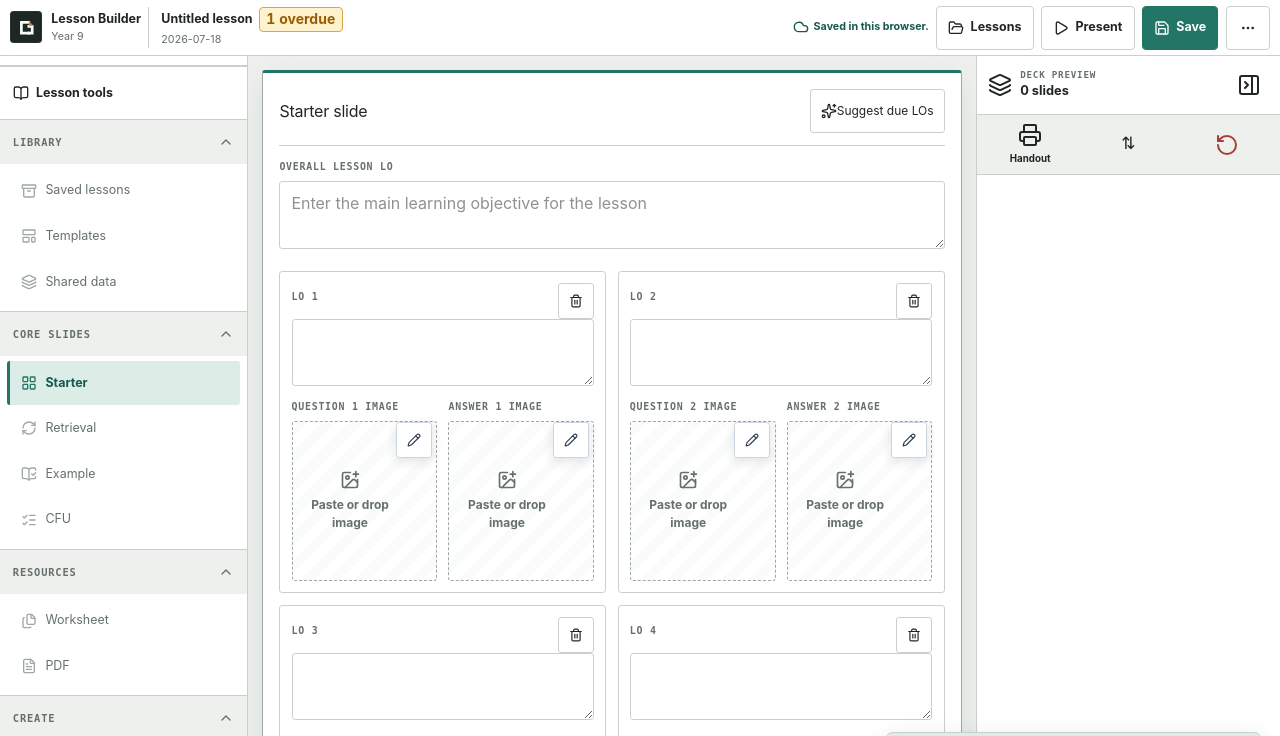
Test: BuilderShell Compact Console action parity › updates the top-bar count after logging selected retrieval items
(page scrolled)
Expected: the text named "Overdue retrieval items" reads "1 overdue", [259,7,343,32]
Step 1. Click the button "Retrieval" → (124, 428), box [7,406,240,450]
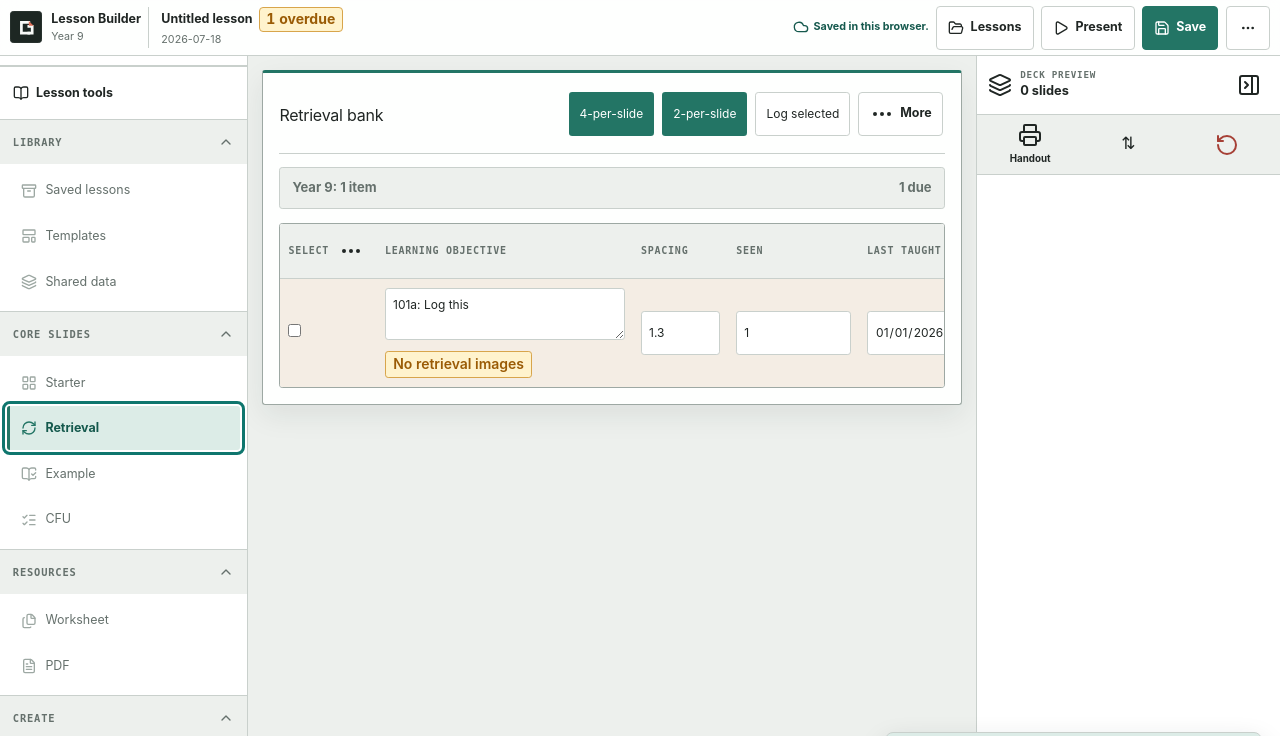
Step 2. Click the checkbox named "Select 101a: Log this" → (295, 330), box [288,324,301,337]
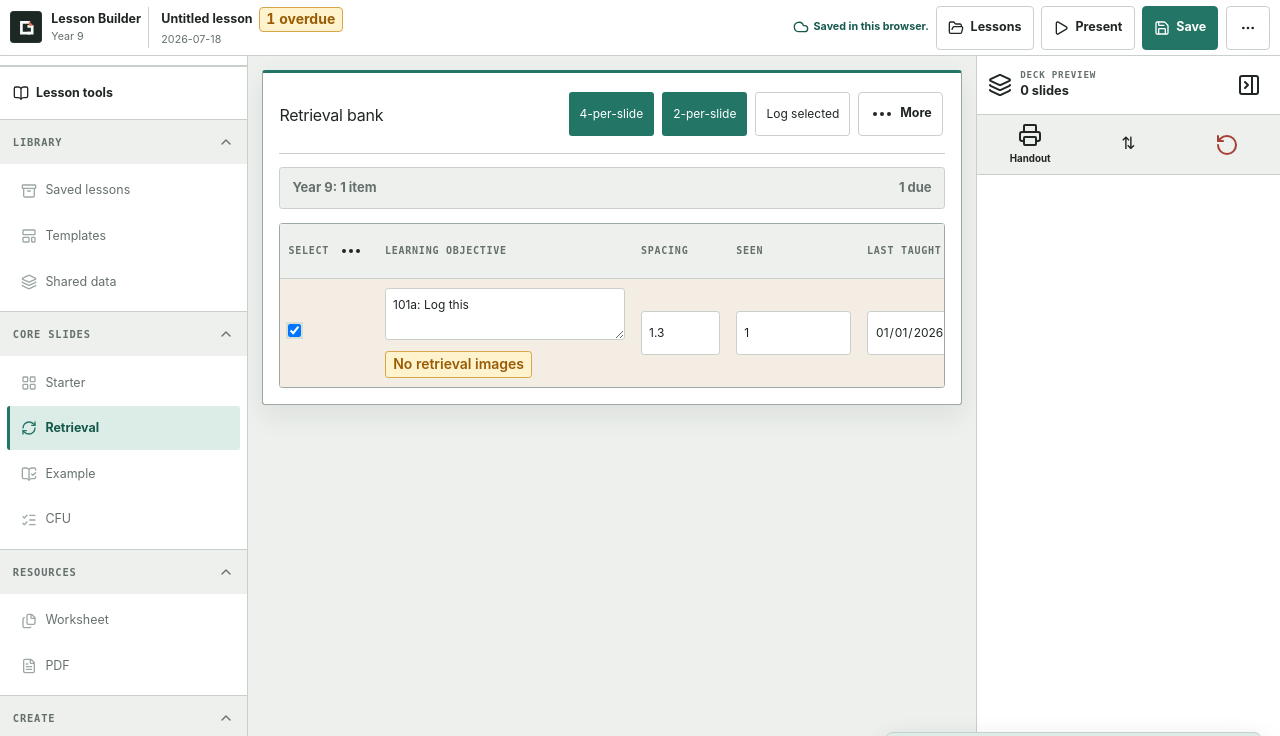
Step 3. Click the button "Log selected" → (803, 114), box [755,92,850,136]
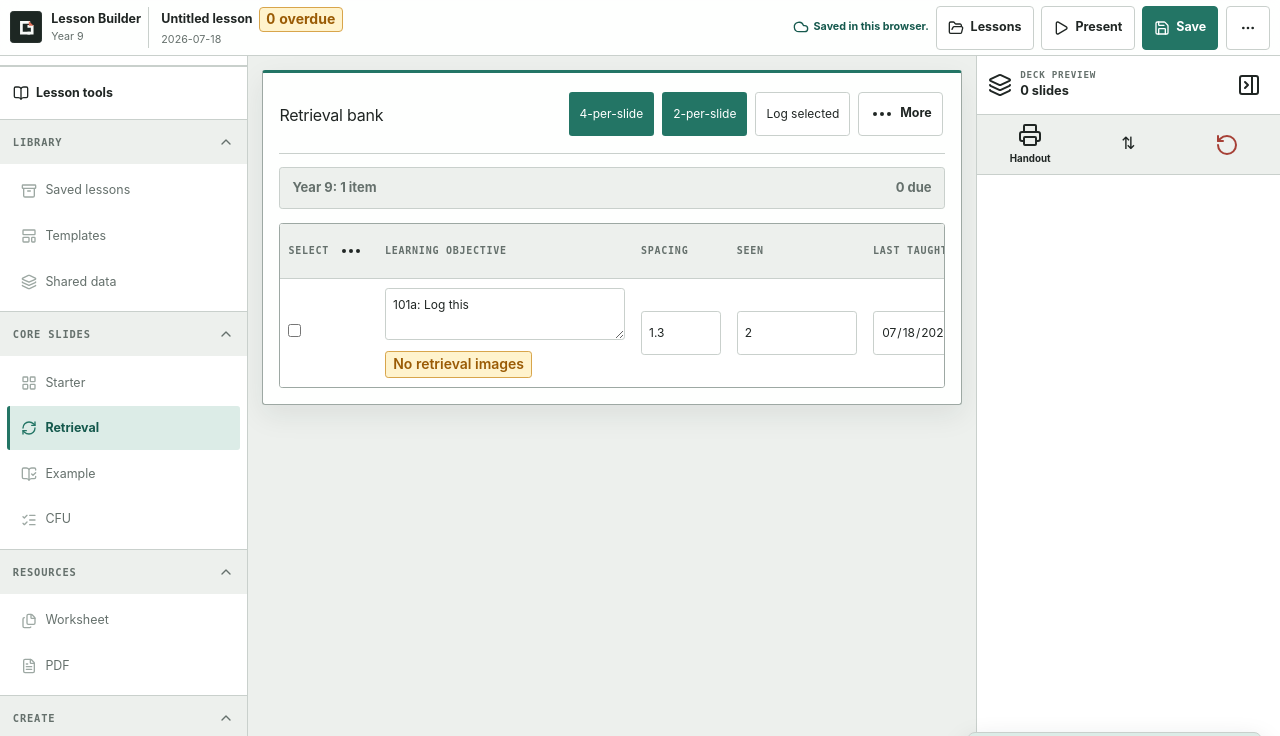
Expected: the checkbox named "Select 101a: Log this" is not checked, [288,324,301,337]
Expected: the text named "Overdue retrieval items" reads "0 overdue", [259,7,343,32]
